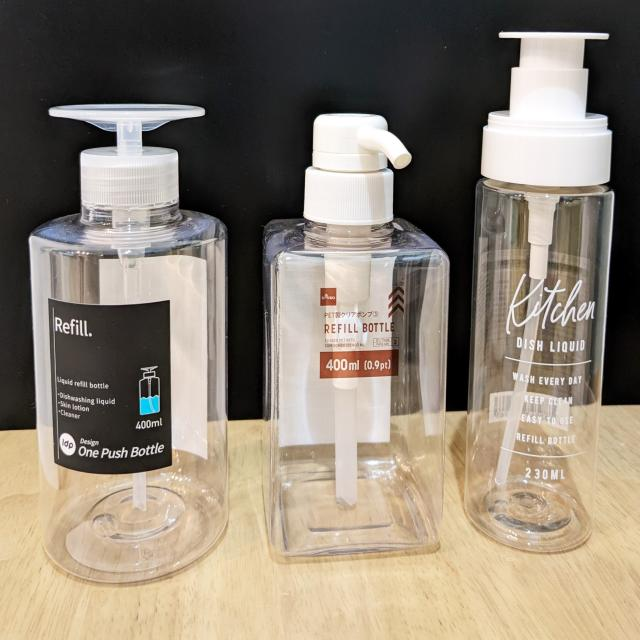plastic: (28, 101, 230, 586), (264, 110, 450, 556), (467, 29, 614, 555)
